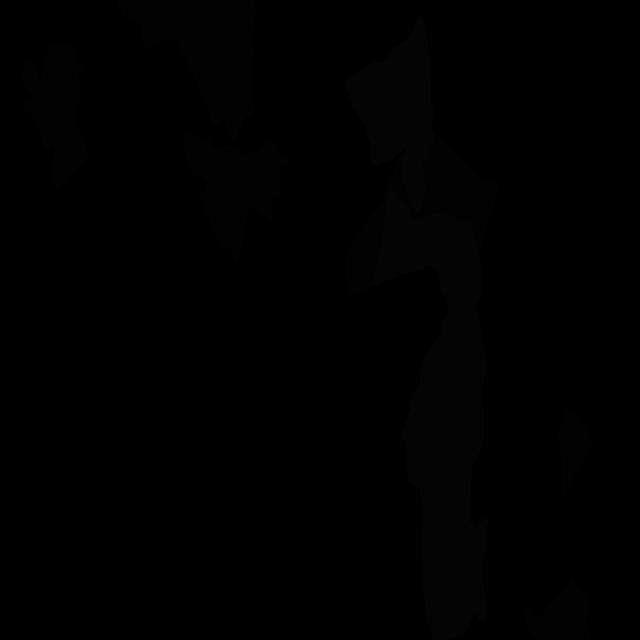cardboard: (346, 134, 498, 296), (118, 0, 256, 143), (183, 130, 289, 263), (22, 43, 88, 194), (524, 576, 594, 640), (558, 410, 594, 497)
soft_plastic: (402, 222, 490, 640), (345, 15, 430, 167), (370, 191, 461, 296), (401, 72, 436, 213)
